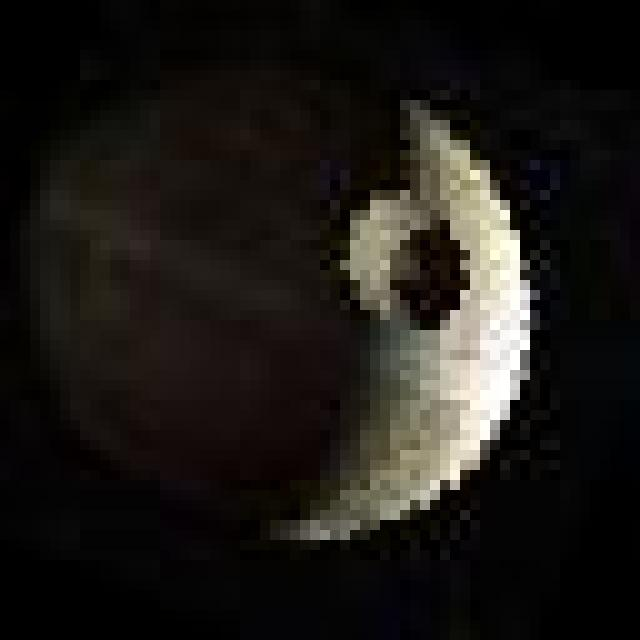Death Star: (250, 80, 540, 550)
